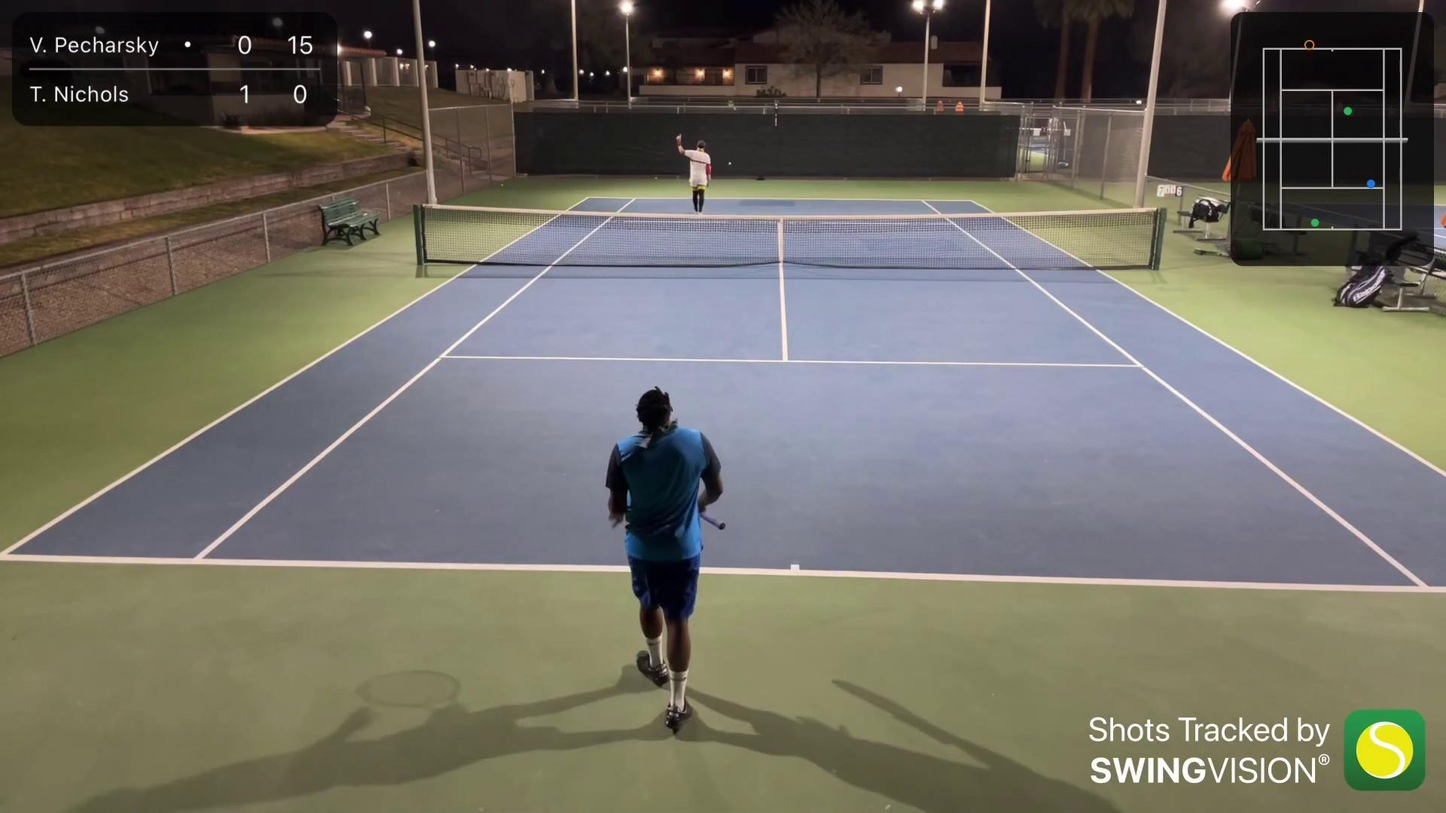ball: (650, 175, 659, 181), (727, 160, 734, 167), (499, 182, 505, 188)
